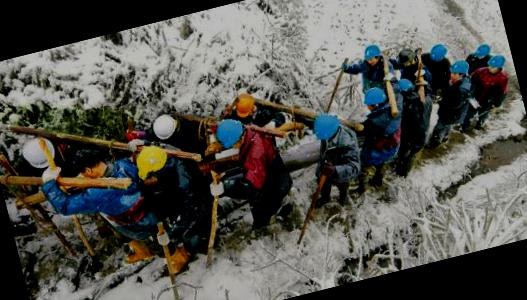no_helmet: (60, 143, 112, 195)
person: (200, 113, 300, 244), (59, 140, 153, 279), (125, 133, 222, 264), (291, 104, 374, 218), (340, 85, 416, 192), (378, 74, 446, 178), (419, 60, 486, 145), (470, 51, 526, 134), (219, 84, 283, 137), (336, 41, 395, 98), (420, 43, 457, 98), (385, 42, 430, 86), (460, 42, 499, 87)
